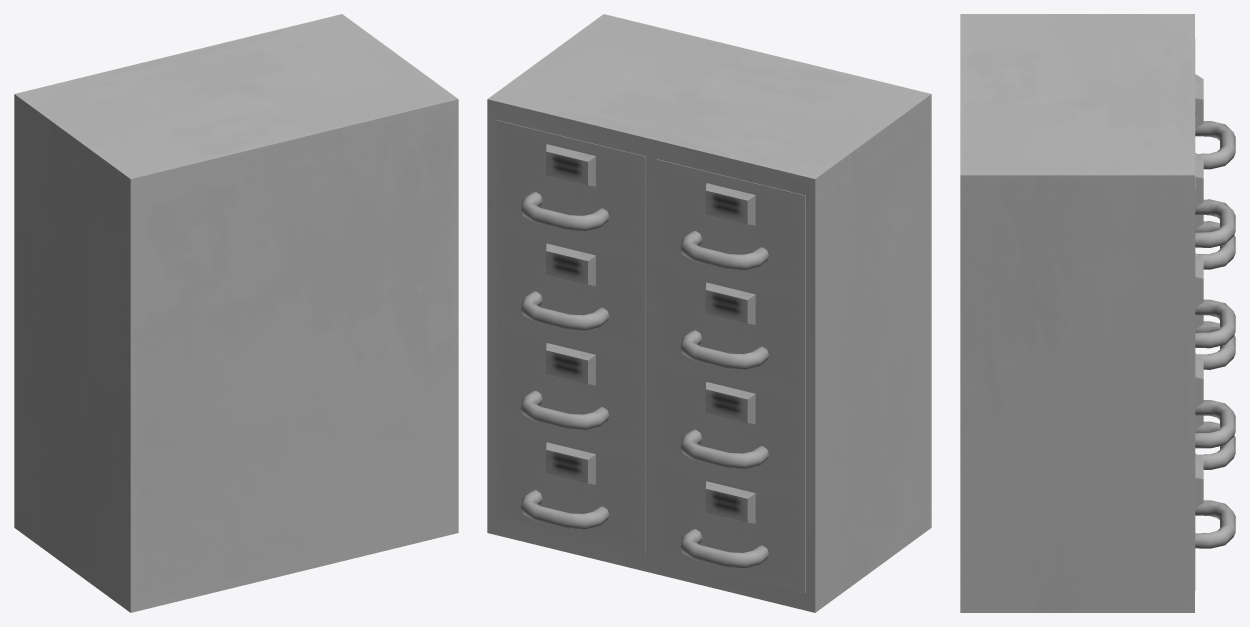
Rendered from Pfb_FileCabient_L__3.fbx.
3 views of the same model, side by side, from view 1: azimuth 30°, elevation 25°; view 2: azimuth 150°, elevation 25°; view 3: azimuth 270°, elevation 25° (orthographic).
Parts seen in each view (by area): view 1: Mat_FileCabient_JLAB; view 2: Mat_FileCabient_JLAB; view 3: Mat_FileCabient_JLAB.
Boxes of the visible parts, <box> form: Mat_FileCabient_JLAB: <box>14,14,458,612</box>; Mat_FileCabient_JLAB: <box>487,14,931,612</box>; Mat_FileCabient_JLAB: <box>960,14,1235,612</box>.
Bounding box in the file's own units: 1.25 × 1.58 × 0.9022.
Materials: 1 (1 with a texture image).
